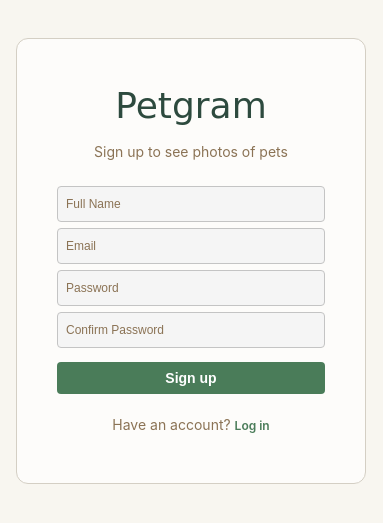
Test case: Register Page › shows error for short password
This screenshot has width=383, height=523.
Type "John" into the field with placeholder "Full Name".
click(191, 204); type("John")  # box [57,186,325,222]
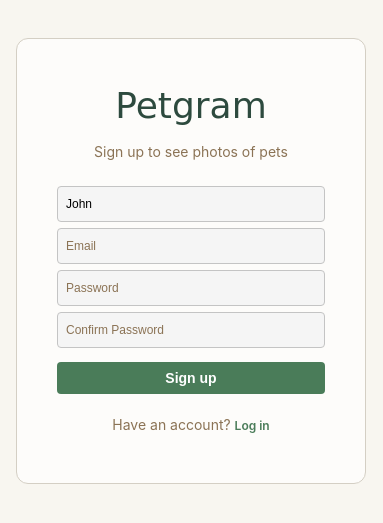
Type "test@test.com" into the field with placeholder "Email".
click(191, 246); type("test@test.com")  # box [57,228,325,264]
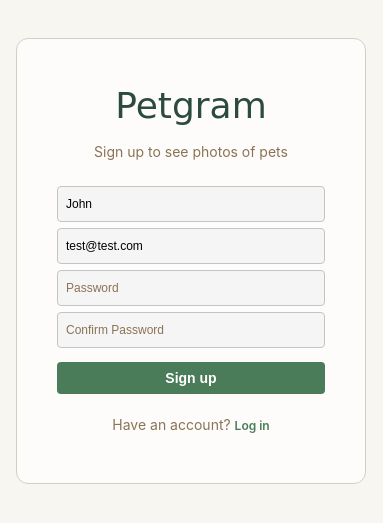
Type "short" into the password field with placeholder "Password".
click(191, 288); type("short")  # box [57,270,325,306]
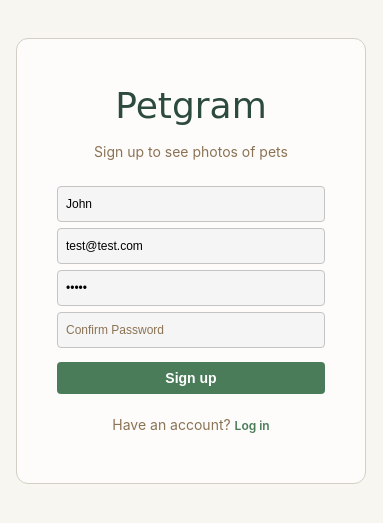
Click the button "Sign up".
click(191, 378)  # box [57,362,325,394]
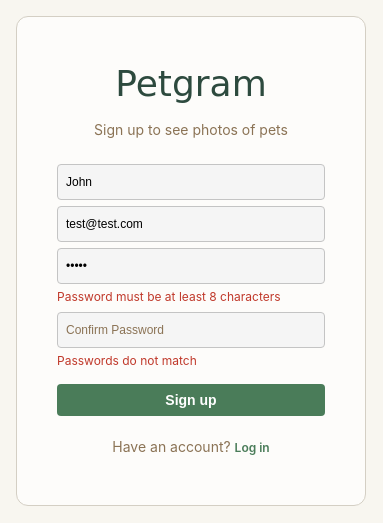
Now the text "Password must be at least 8 characters" is shown, box [57,289,281,304]
